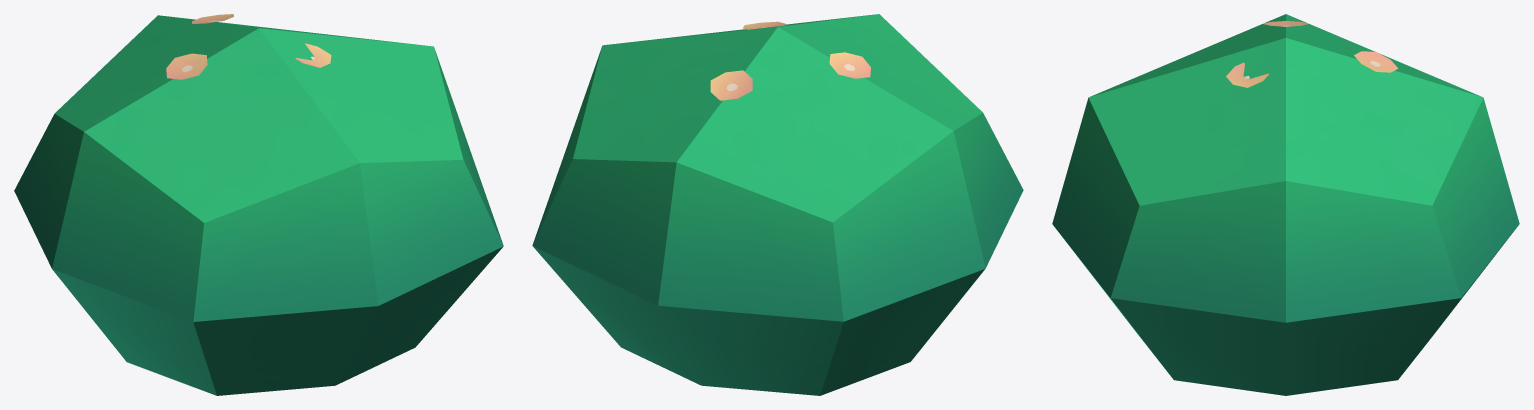
File: Куст большой.fbx
3 renders of one model, left to right at view 1: azimuth 30°, elevation 25°; view 2: azimuth 150°, elevation 25°; view 3: azimuth 270°, elevation 25°, orthographic. The views are drawn at different scales.
Parts seen in each view (by area): view 1: Куст_большой; view 2: Куст_большой; view 3: Куст_большой.
Part boxes in pixels (x1,y1,x2,y2): Куст_большой: (14,14,503,395); Куст_большой: (532,14,1023,395); Куст_большой: (1052,14,1519,395).
Bounding box in the file's own units: 35.68 × 24.85 × 35.68.
